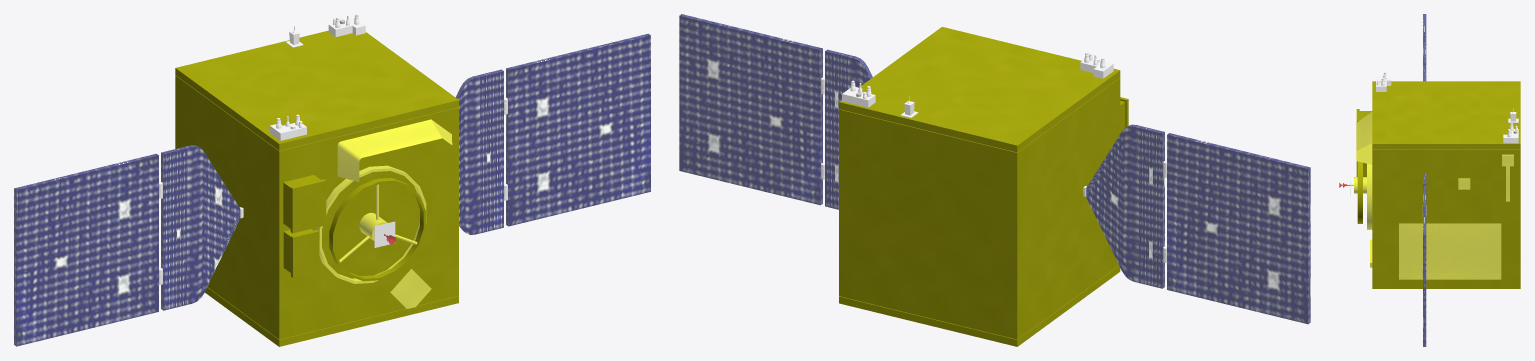
The model's file is GSSAP.gltf.
3 views of the same model, side by side, from view 1: azimuth 30°, elevation 25°; view 2: azimuth 150°, elevation 25°; view 3: azimuth 270°, elevation 25° (orthographic). The views are drawn at different scales.
Parts seen in each view (by area): view 1: Box001, Box007, Box006, Box004, Tube002, Tube001, Box005, 对象002; view 2: Box001, Box007, Box006, 对象002; view 3: Box001, Box008, Box004, Box006, Tube001, Tube002, 对象002, Box007, 对象001.
Boxes of the visible parts, bbox=[...] form: Box001: bbox=[175, 30, 458, 346]; Box007: bbox=[14, 145, 240, 346]; Box006: bbox=[455, 33, 650, 234]; Box004: bbox=[337, 119, 452, 181]; Tube002: bbox=[329, 178, 425, 281]; Tube001: bbox=[316, 165, 426, 283]; Box005: bbox=[390, 269, 431, 308]; 对象002: bbox=[285, 18, 365, 47]; Box001: bbox=[839, 27, 1128, 346]; Box007: bbox=[1086, 124, 1310, 324]; Box006: bbox=[679, 14, 872, 209]; 对象002: bbox=[842, 87, 918, 117]; Box001: bbox=[1356, 81, 1520, 288]; Box008: bbox=[1399, 154, 1513, 279]; Box004: bbox=[1356, 112, 1372, 164]; Box006: bbox=[1423, 173, 1426, 346]; Tube001: bbox=[1367, 163, 1372, 229]; Tube002: bbox=[1357, 161, 1362, 223]; 对象002: bbox=[1503, 112, 1518, 143]; Box007: bbox=[1423, 14, 1426, 81]; 对象001: bbox=[1376, 77, 1391, 91].
Size of the model in its own units: 3.53 by 1.17 by 1.22.
Materials: 6 (3 with a texture image).
